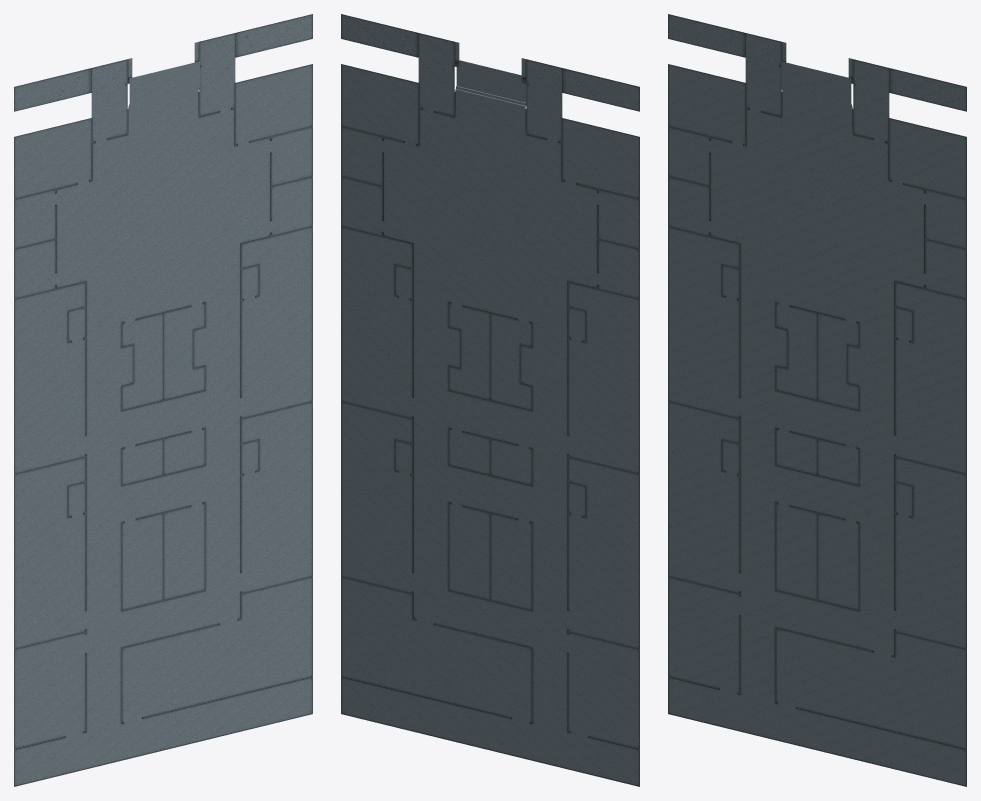
The model's file is aws_robomaker_hospital_floor_01_floor_visual.dae.
3 views of the same model, side by side, from view 1: azimuth 30°, elevation 25°; view 2: azimuth 150°, elevation 25°; view 3: azimuth 330°, elevation 25° (orthographic).
Parts seen in each view (by area): view 1: aws_robomaker_hospital_floor_01_floor_visual; view 2: aws_robomaker_hospital_floor_01_floor_visual; view 3: aws_robomaker_hospital_floor_01_floor_visual.
Part boxes in pixels (box(x1,y1,x2,y2)): aws_robomaker_hospital_floor_01_floor_visual: box(14, 14, 312, 786); aws_robomaker_hospital_floor_01_floor_visual: box(341, 14, 639, 786); aws_robomaker_hospital_floor_01_floor_visual: box(668, 14, 966, 786).
Bounding box in the file's own units: 2500 × 5600 × 17.55.
1 material, 1 textured.
